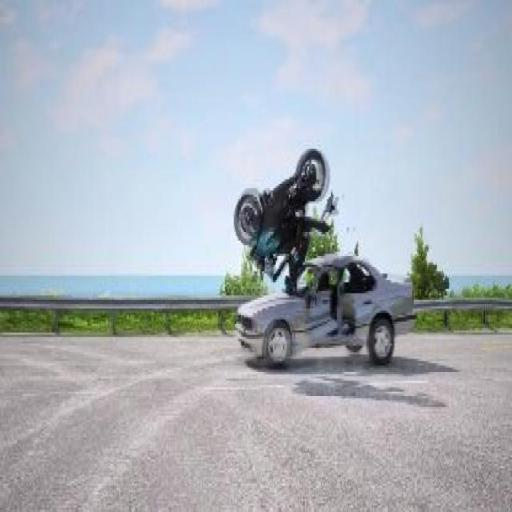小汽车撞自行车: (232, 148, 414, 362)
